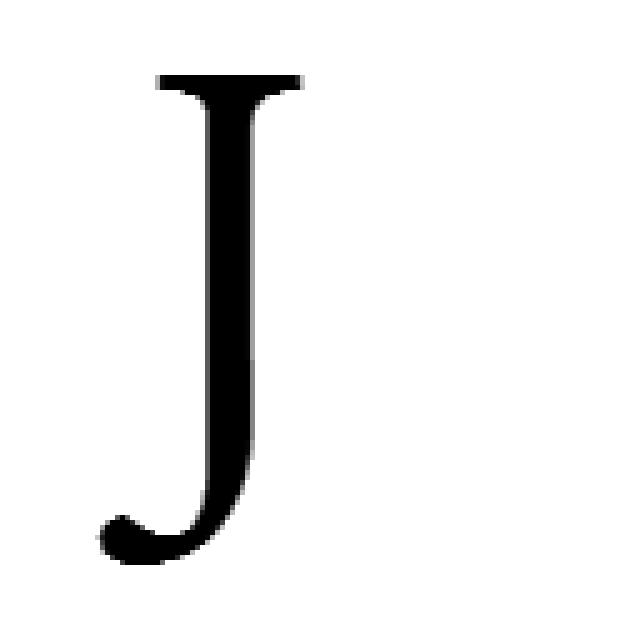J: (90, 65, 305, 570)
